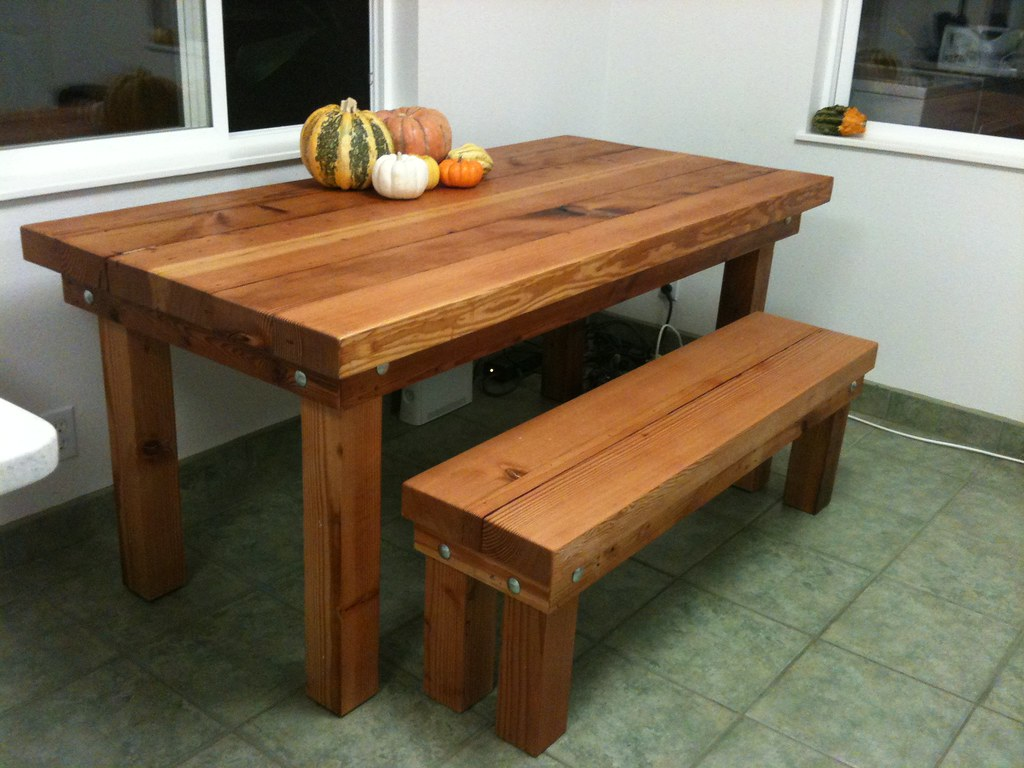table: (9, 131, 958, 715)
